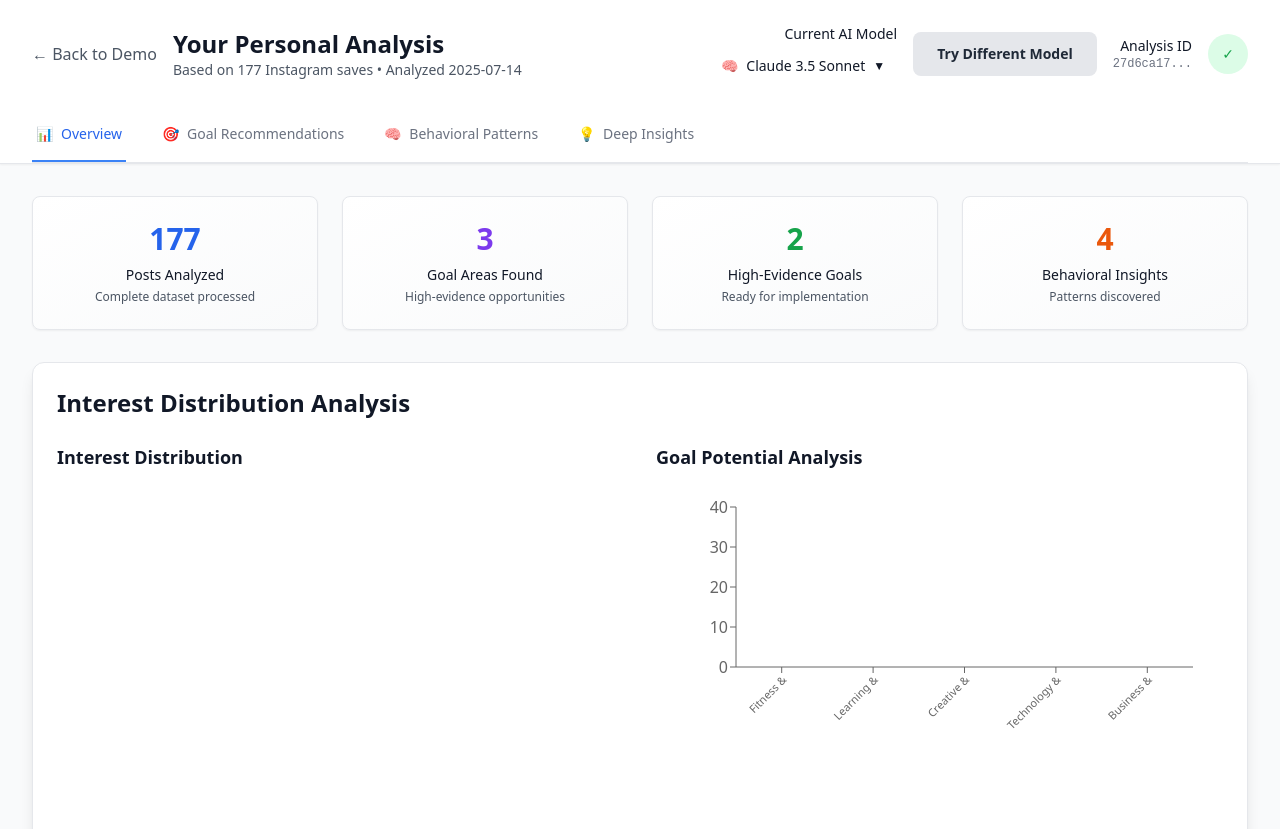
AnalysisDashboard › switches tabs correctly
# Switch to patterns tab
Click the text "Behavioral Patterns".
click(474, 134)  # box [409, 124, 538, 144]
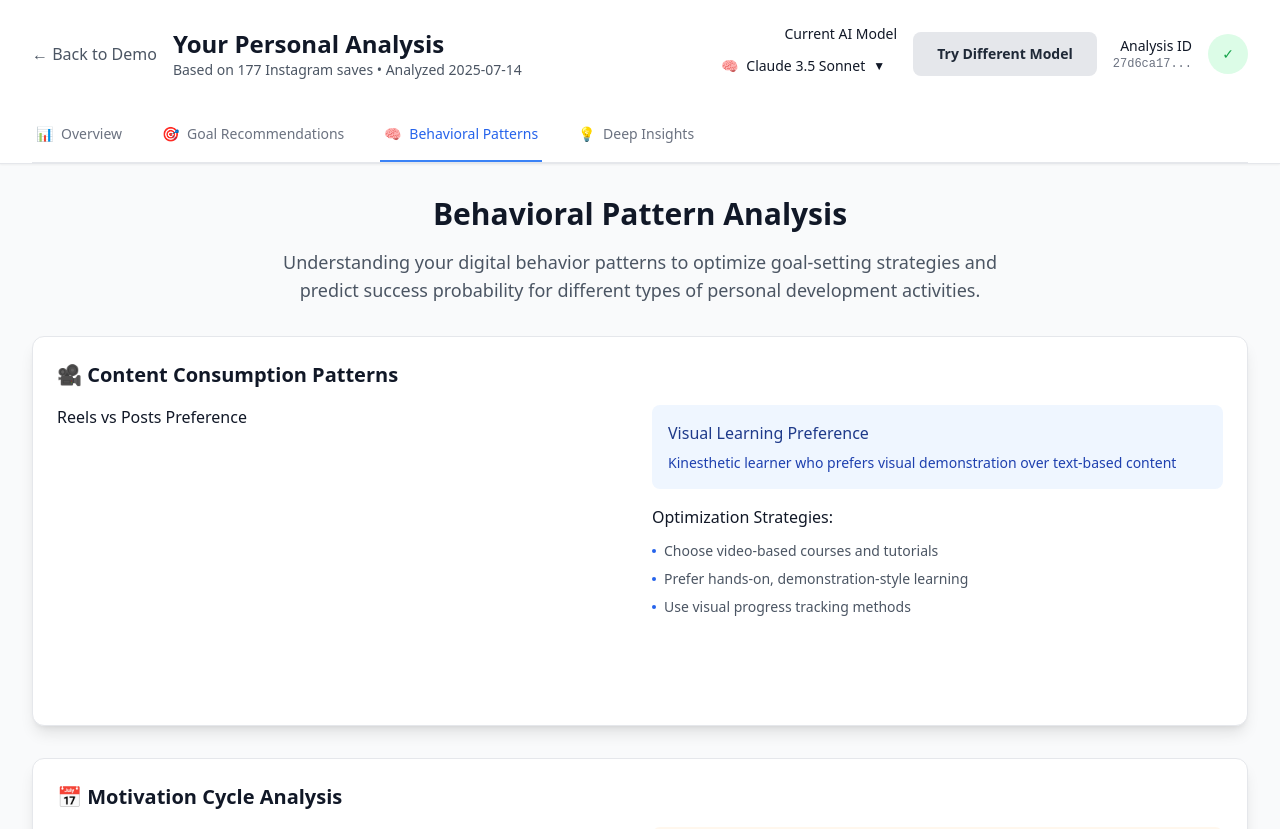
Now the heading "Behavioral Pattern Analysis" is shown, box [433, 193, 847, 234]
# Switch to insights tab
Click the text "Deep Insights".
click(649, 134)  # box [603, 124, 694, 144]
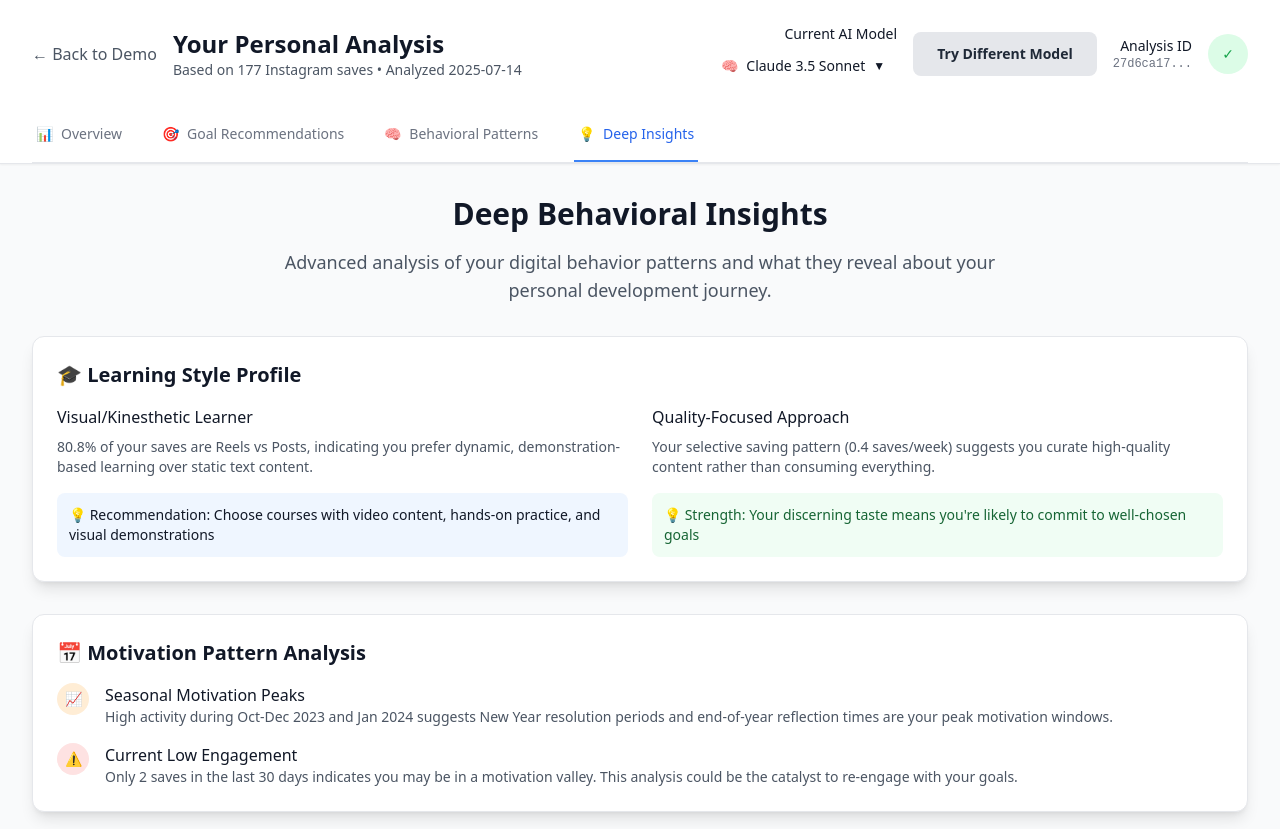
Now the heading "Deep Behavioral Insights" is shown, box [452, 193, 828, 234]
Now the heading "🎓 Learning Style Profile" is shown, box [57, 361, 301, 388]
